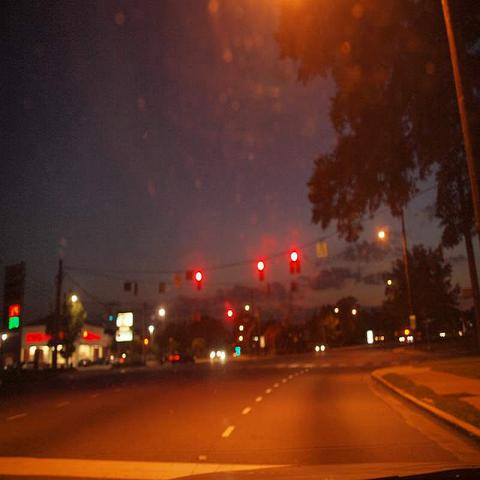car: (110, 349, 144, 366), (168, 349, 196, 363), (398, 326, 414, 347), (315, 340, 330, 352)
